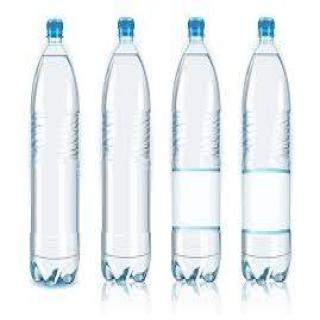Plastic-bottle: (169, 15, 225, 289), (240, 17, 295, 289), (100, 15, 154, 290), (29, 17, 82, 294)
